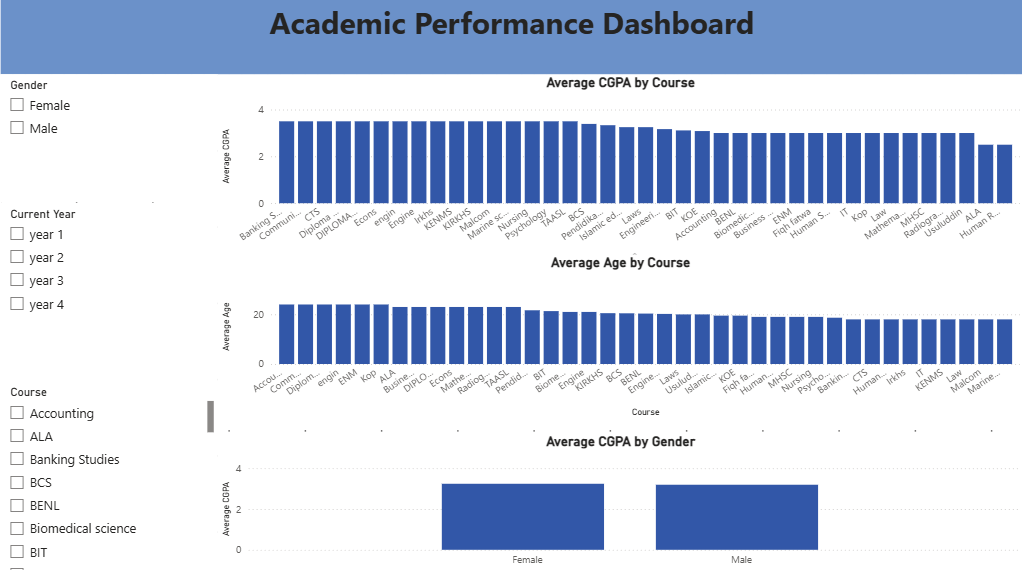

The page's visual inventory and layout, read from the dashboard file:
{"tool":"powerbi","page":{"name":"Academic Analysis","canvas":[1280,720],"ordinal":2},"visuals":[{"type":"clusteredColumnChart","fields":{"Category":["Student_health.Course"],"Y":["Student_health.Average CGPA"]},"box":[272,96,1008,240],"z":0},{"type":"clusteredColumnChart","fields":{"Category":["Student_health.Course"],"Y":["Student_health.Average Age"]},"box":[272,320,1008,208],"z":1},{"type":"columnChart","fields":{"Category":["Student_health.Gender"],"Y":["Student_health.Average CGPA"]},"box":[272,544,1008,176],"z":2},{"type":"textbox","box":[0,0,1280,96],"z":3},{"type":"slicer","fields":{"Values":["Student_health.Current Year"]},"box":[0,256,272,224],"z":4},{"type":"slicer","fields":{"Values":["Student_health.Gender"]},"box":[0,96,272,160],"z":5},{"type":"slicer","fields":{"Values":["Student_health.Course"]},"box":[0,480,272,240],"z":6}]}

Visuals, with their boxes on the page's 1280x720 design canvas (x1, y1, x2, y2). These are canvas units, not pixel positions in the 1022x574 screenshot, which may show the page scaled, cropped or inside an application window:
clusteredColumnChart - Student_health.Course x Student_health.Average CGPA: (272,96,1280,336)
clusteredColumnChart - Student_health.Course x Student_health.Average Age: (272,320,1280,528)
columnChart - Student_health.Gender x Student_health.Average CGPA: (272,544,1280,720)
textbox: (0,0,1280,96)
slicer - Student_health.Current Year: (0,256,272,480)
slicer - Student_health.Gender: (0,96,272,256)
slicer - Student_health.Course: (0,480,272,720)
